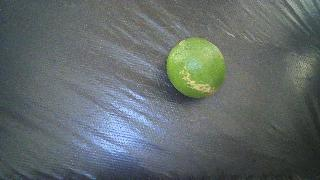DESECHO: (167, 38, 225, 98)
